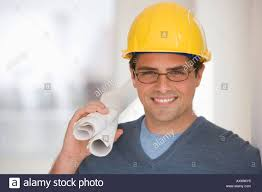Person_wearing_helmet: (114, 0, 212, 86)
